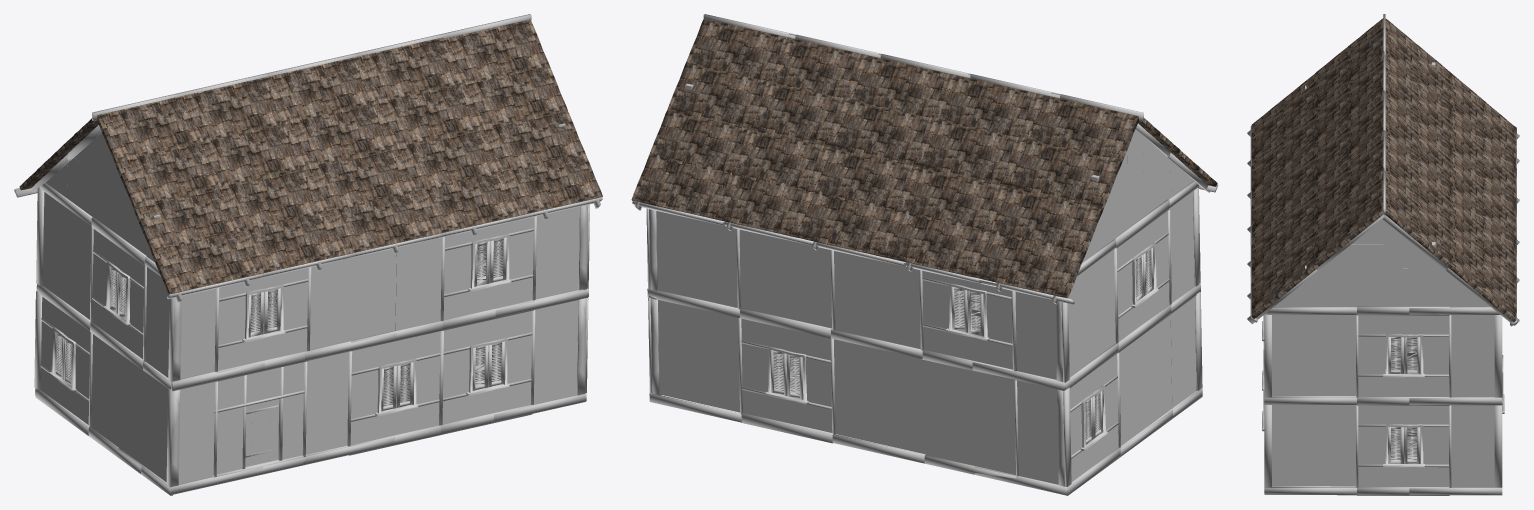
File: Casa_V8_Red.fbx
The picture shows the model from 3 angles, left to right: view 1: azimuth 30°, elevation 25°; view 2: azimuth 150°, elevation 25°; view 3: azimuth 270°, elevation 25°; orthographic projection. The views are drawn at different scales.
Visible parts, largest first — view 1: pared_yeso_1_5x3_LOW_1; view 2: pared_yeso_1_5x3_LOW_1; view 3: pared_yeso_1_5x3_LOW_1.
Boxes of the visible parts, left/top/right/bottom form: pared_yeso_1_5x3_LOW_1: left=14, top=14, right=602, bottom=495; pared_yeso_1_5x3_LOW_1: left=631, top=14, right=1218, bottom=495; pared_yeso_1_5x3_LOW_1: left=1247, top=14, right=1519, bottom=495.
Size of the model in its own units: 1411 by 1048 by 862.
